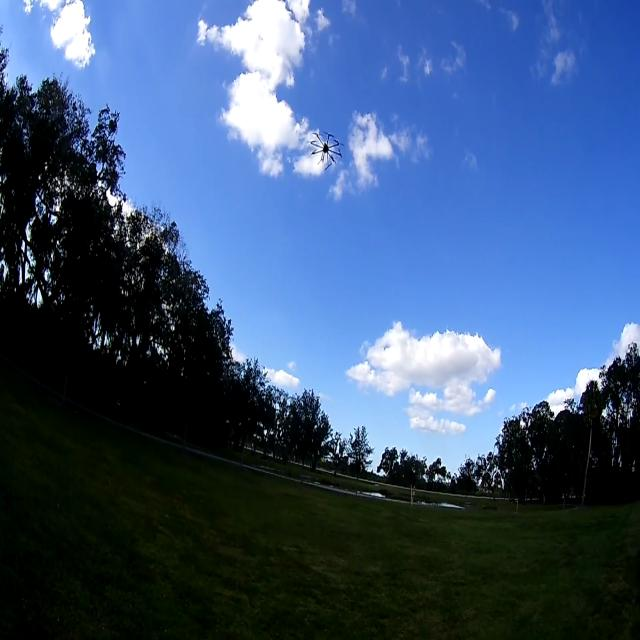drone: (306, 116, 352, 182)
